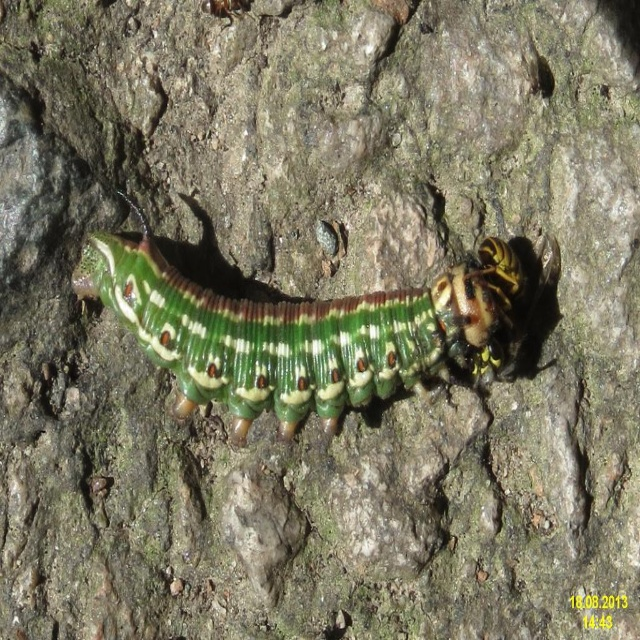Caterpillar: (72, 190, 507, 438)
